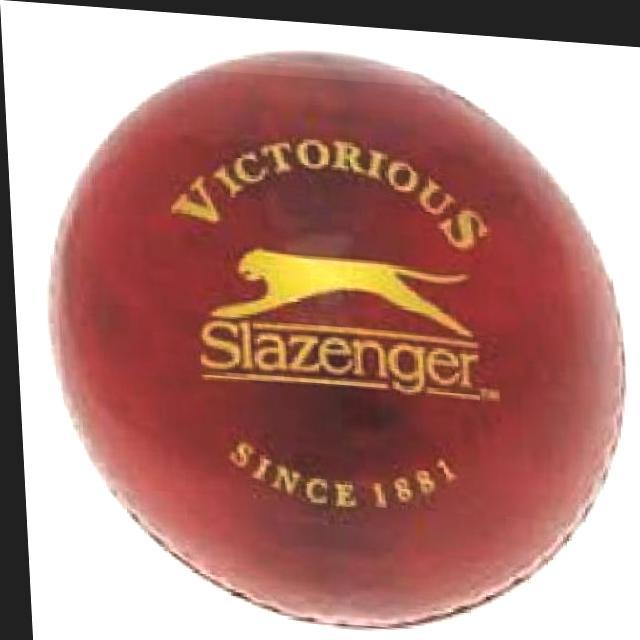-: (29, 56, 632, 628)
